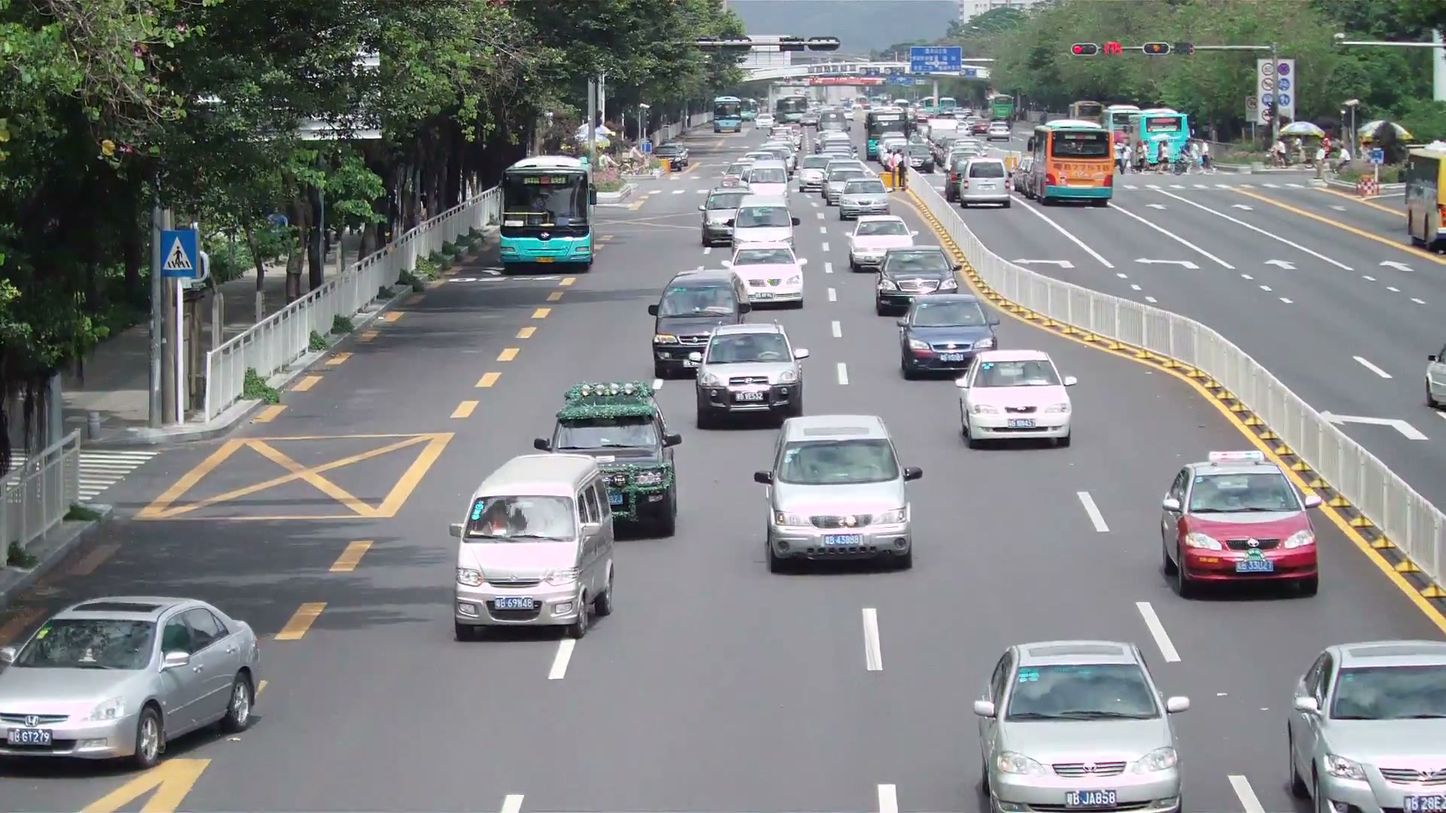bus: (499, 156, 595, 272), (1017, 118, 1115, 206), (1105, 104, 1190, 174)
car: (0, 594, 264, 769), (973, 639, 1191, 811), (451, 450, 617, 640), (1284, 639, 1446, 811), (753, 414, 922, 574), (1158, 451, 1321, 601), (540, 382, 682, 538), (955, 346, 1075, 450), (694, 322, 806, 427), (649, 267, 749, 378), (897, 293, 999, 381), (874, 247, 960, 317), (729, 244, 806, 311), (847, 214, 916, 272), (957, 157, 1012, 209), (1423, 347, 1446, 412)
truck: (1105, 105, 1190, 172), (1402, 138, 1445, 253)
